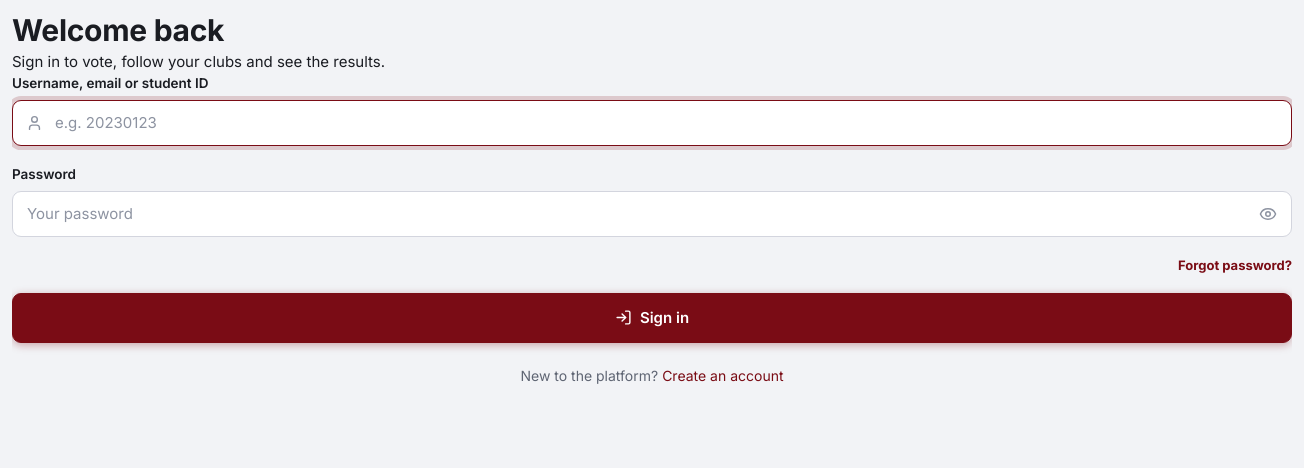
Test: Login page › shows a translated error, clears the password and stays on the page after wrong credentials
In the field labelled "Username, email or student ID": [652, 123] box [12,100,1292,146], type "student_one"
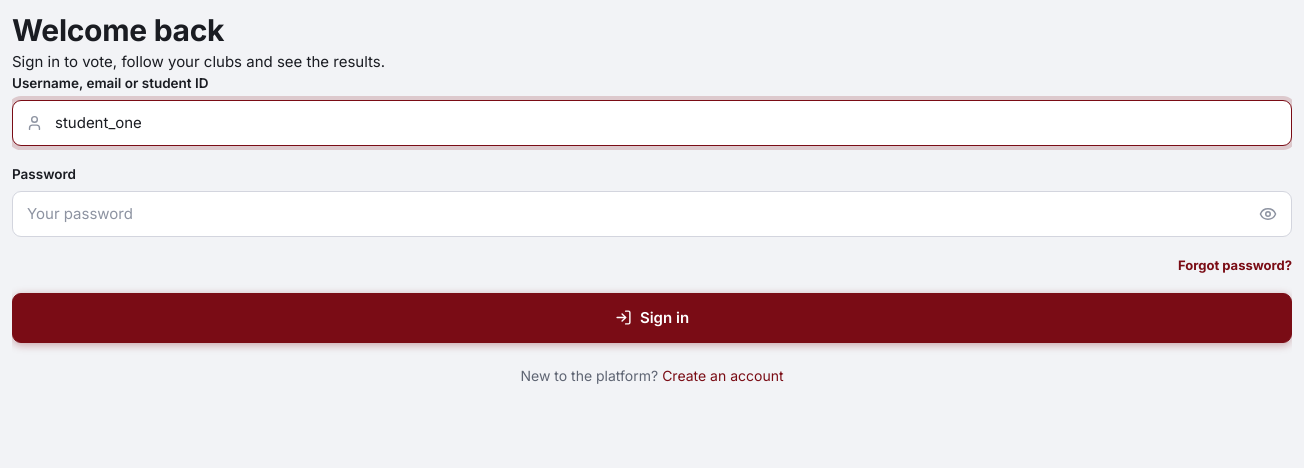
In the password field labelled "Password": [652, 214] box [12,191,1292,237], type "WrongPass1"
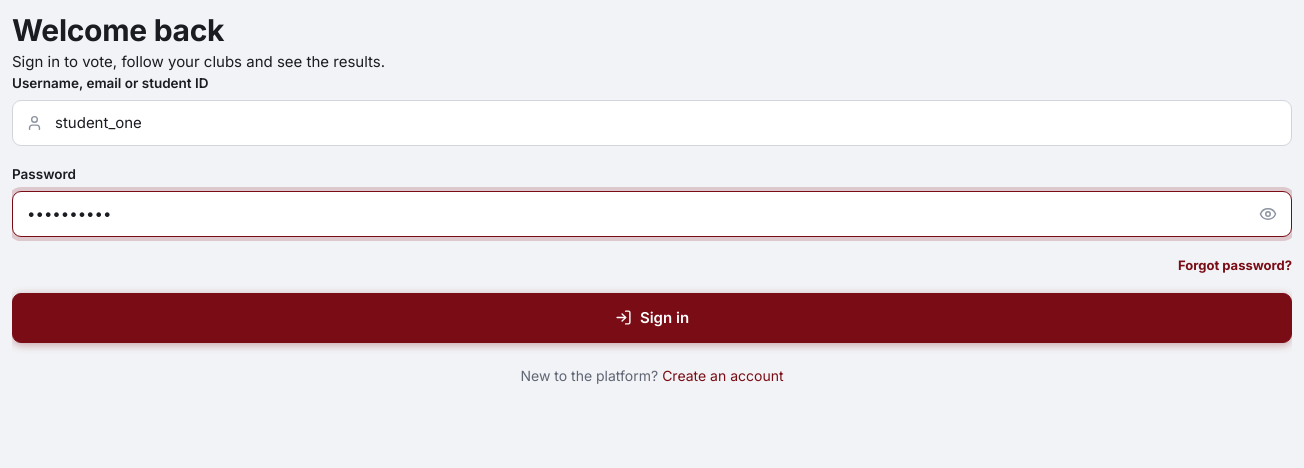
Click the button "Sign in": [652, 318] box [12,293,1292,343]
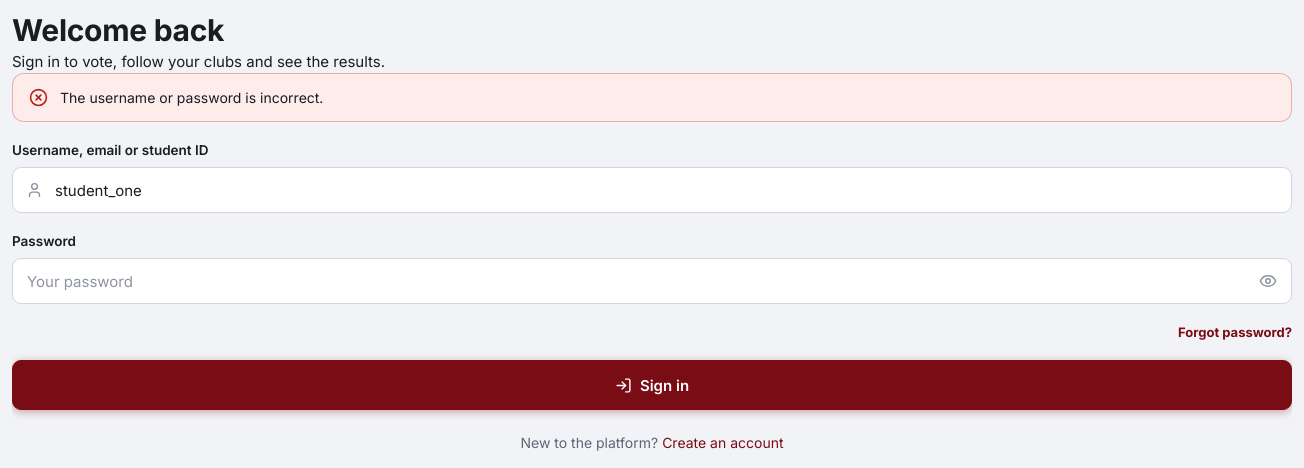
Check: the text "The username or password is incorrect." is shown, box [60,89,323,106]
Check: the password field labelled "Password" is empty, box [12,258,1292,304]
